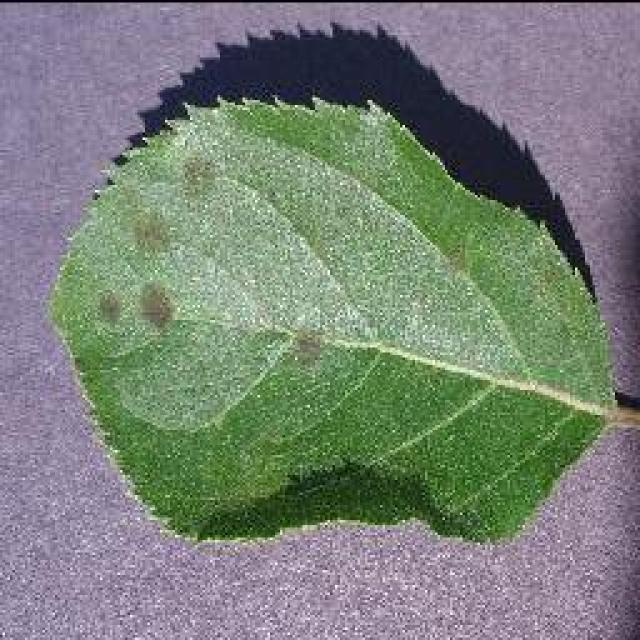Apple___Apple_scab: (40, 90, 624, 548)
